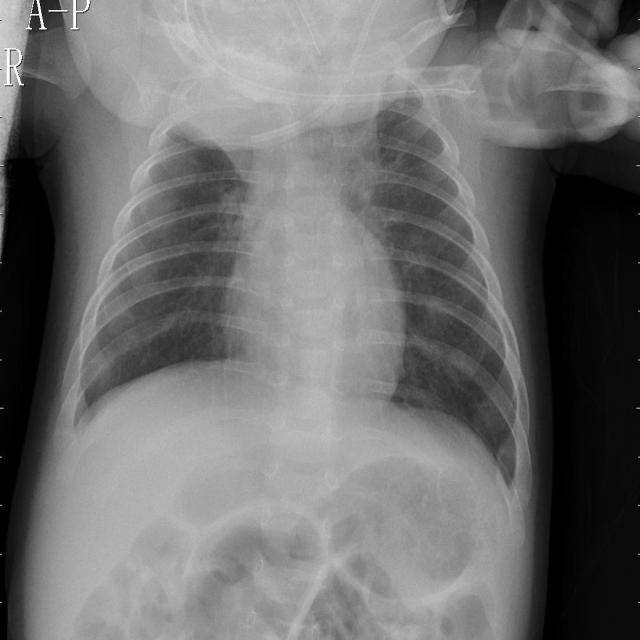high-pneumonia: (311, 116, 404, 256), (173, 116, 256, 164)
